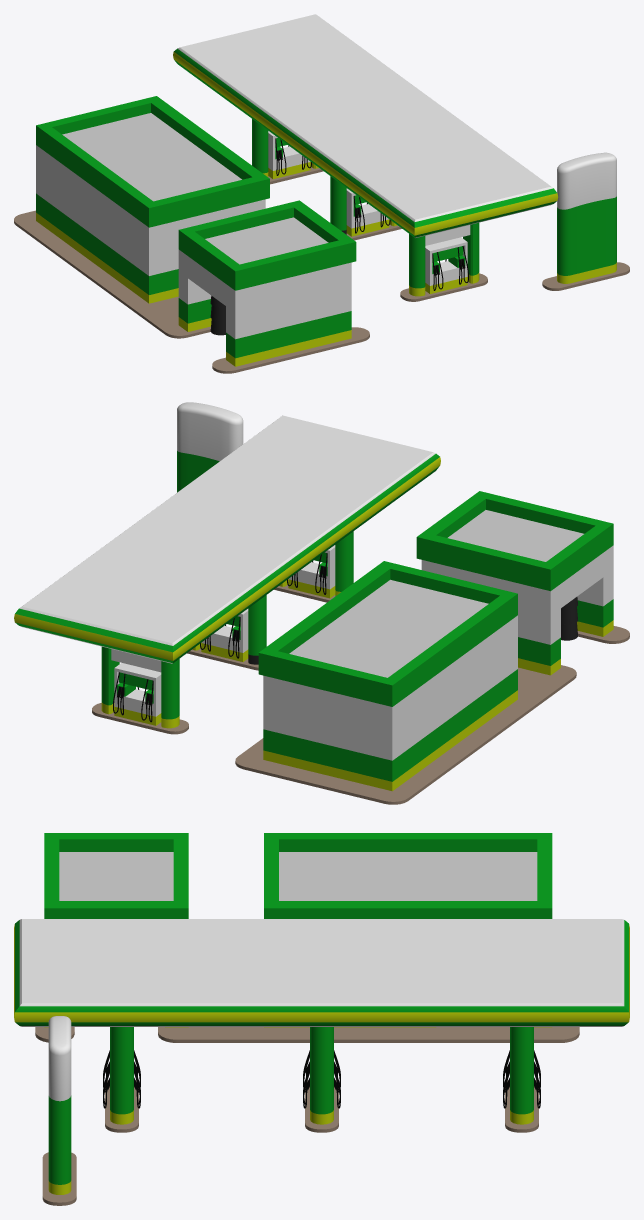
The picture shows the model from 3 angles, top to bottom: view 1: azimuth 30°, elevation 25°; view 2: azimuth 150°, elevation 25°; view 3: azimuth 270°, elevation 25°; orthographic projection. The views are drawn at different scales.
Visible parts, largest first — view 1: PublicBuilding_GasStation; view 2: PublicBuilding_GasStation; view 3: PublicBuilding_GasStation.
Part boxes in pixels (left/top/right/bottom): PublicBuilding_GasStation: left=14, top=14, right=629, bottom=373; PublicBuilding_GasStation: left=14, top=402, right=629, bottom=804; PublicBuilding_GasStation: left=14, top=833, right=629, bottom=1205.
Size of what is drawn, in the model's own units: 12.22 by 3.36 by 12.32.
Materials: 1 (1 with a texture image).
